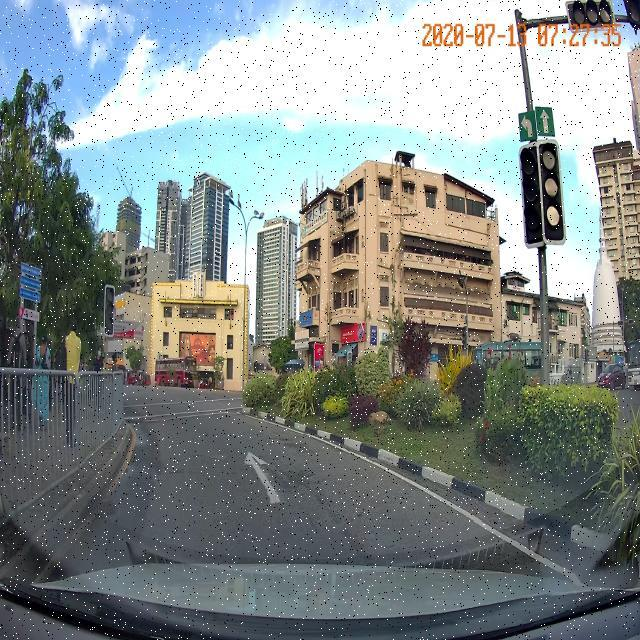forward: (86, 435, 500, 521)
